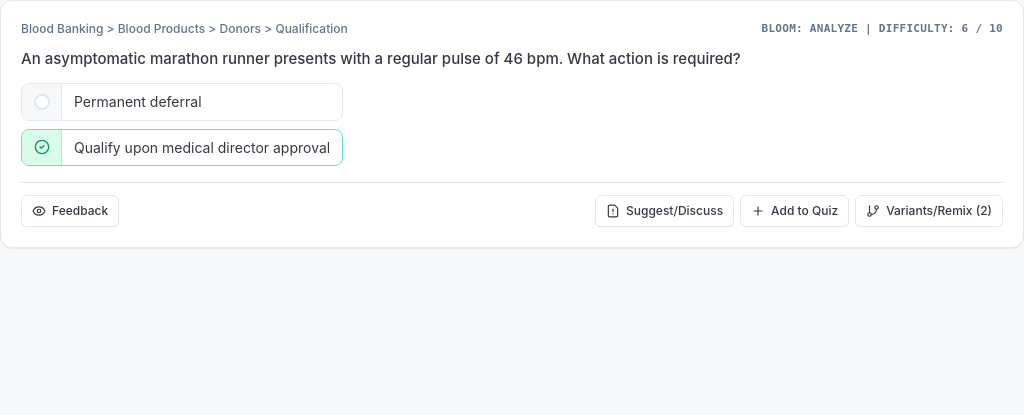
Test: QuestionCard › keeps correct radial visible when feedback is hidden, toggles per-card feedback, and syncs with globalReveal
The image size is (1024, 415).
Later steps or results of the test are not shown.
Expected: the icon named "Correct answer" is shown, [34,139,50,155]
Expected: the text "Conditioned athletes with pulse <50 bpm" is not shown
Click the button with aria-label "Show feedback".
click(70, 211)  # box [21,195,119,227]
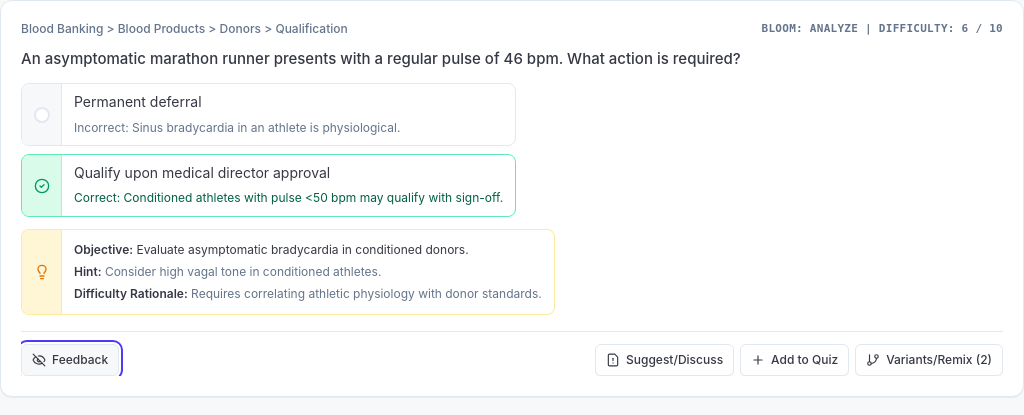
Expected: the text "Conditioned athletes with pulse <50 bpm" is shown, [74,190,503,205]
Expected: the text "Evaluate asymptomatic bradycardia in conditioned donors." is shown, [136,242,469,257]
Expected: the text "Hint: Consider high vagal tone in conditioned athletes." is shown, [74,264,381,279]
Click the button with aria-label "Hide feedback".
click(70, 360)  # box [21,344,119,376]
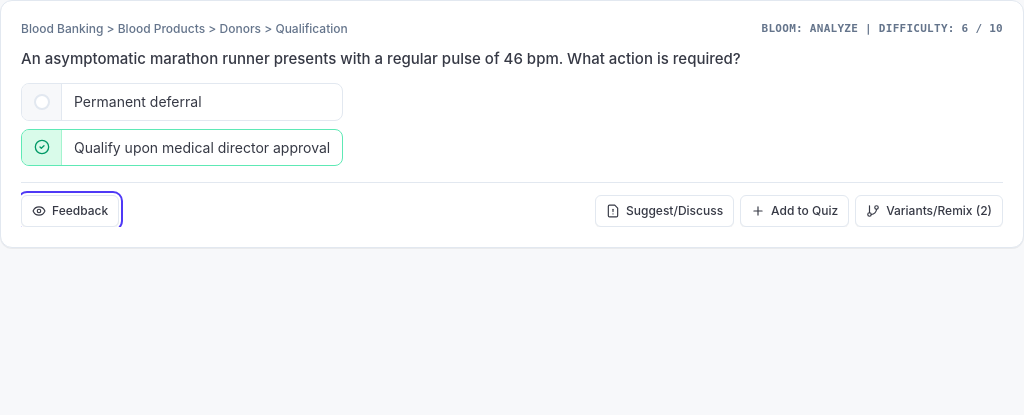
Expected: the text "Evaluate asymptomatic bradycardia in conditioned donors." is gone
